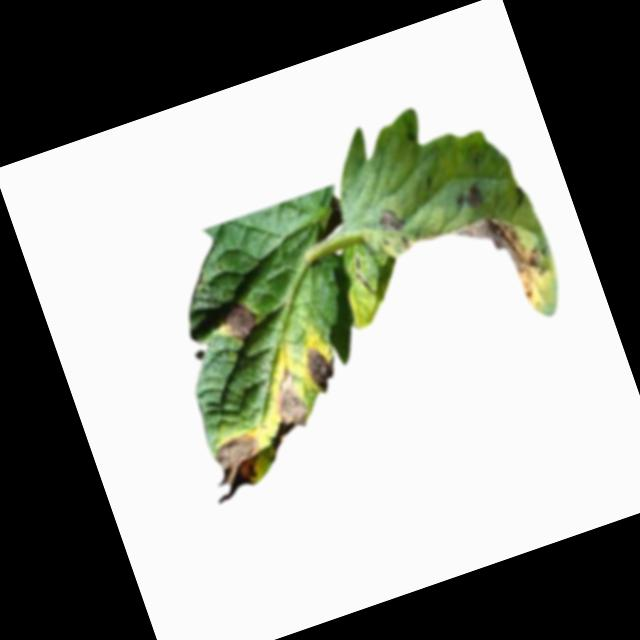Early_blight: (450, 200, 561, 324), (252, 365, 317, 452), (201, 431, 276, 506), (300, 341, 341, 398), (220, 300, 260, 342), (452, 181, 488, 213), (378, 207, 403, 235)
